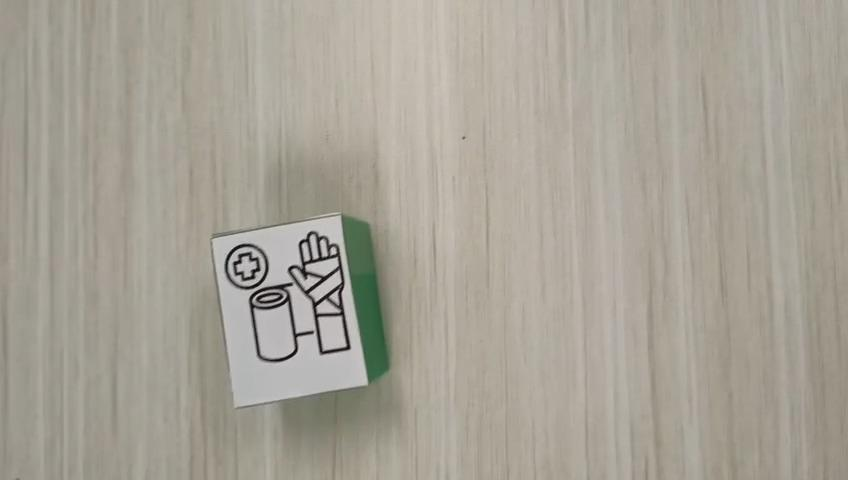Bandages: (209, 211, 390, 408)
